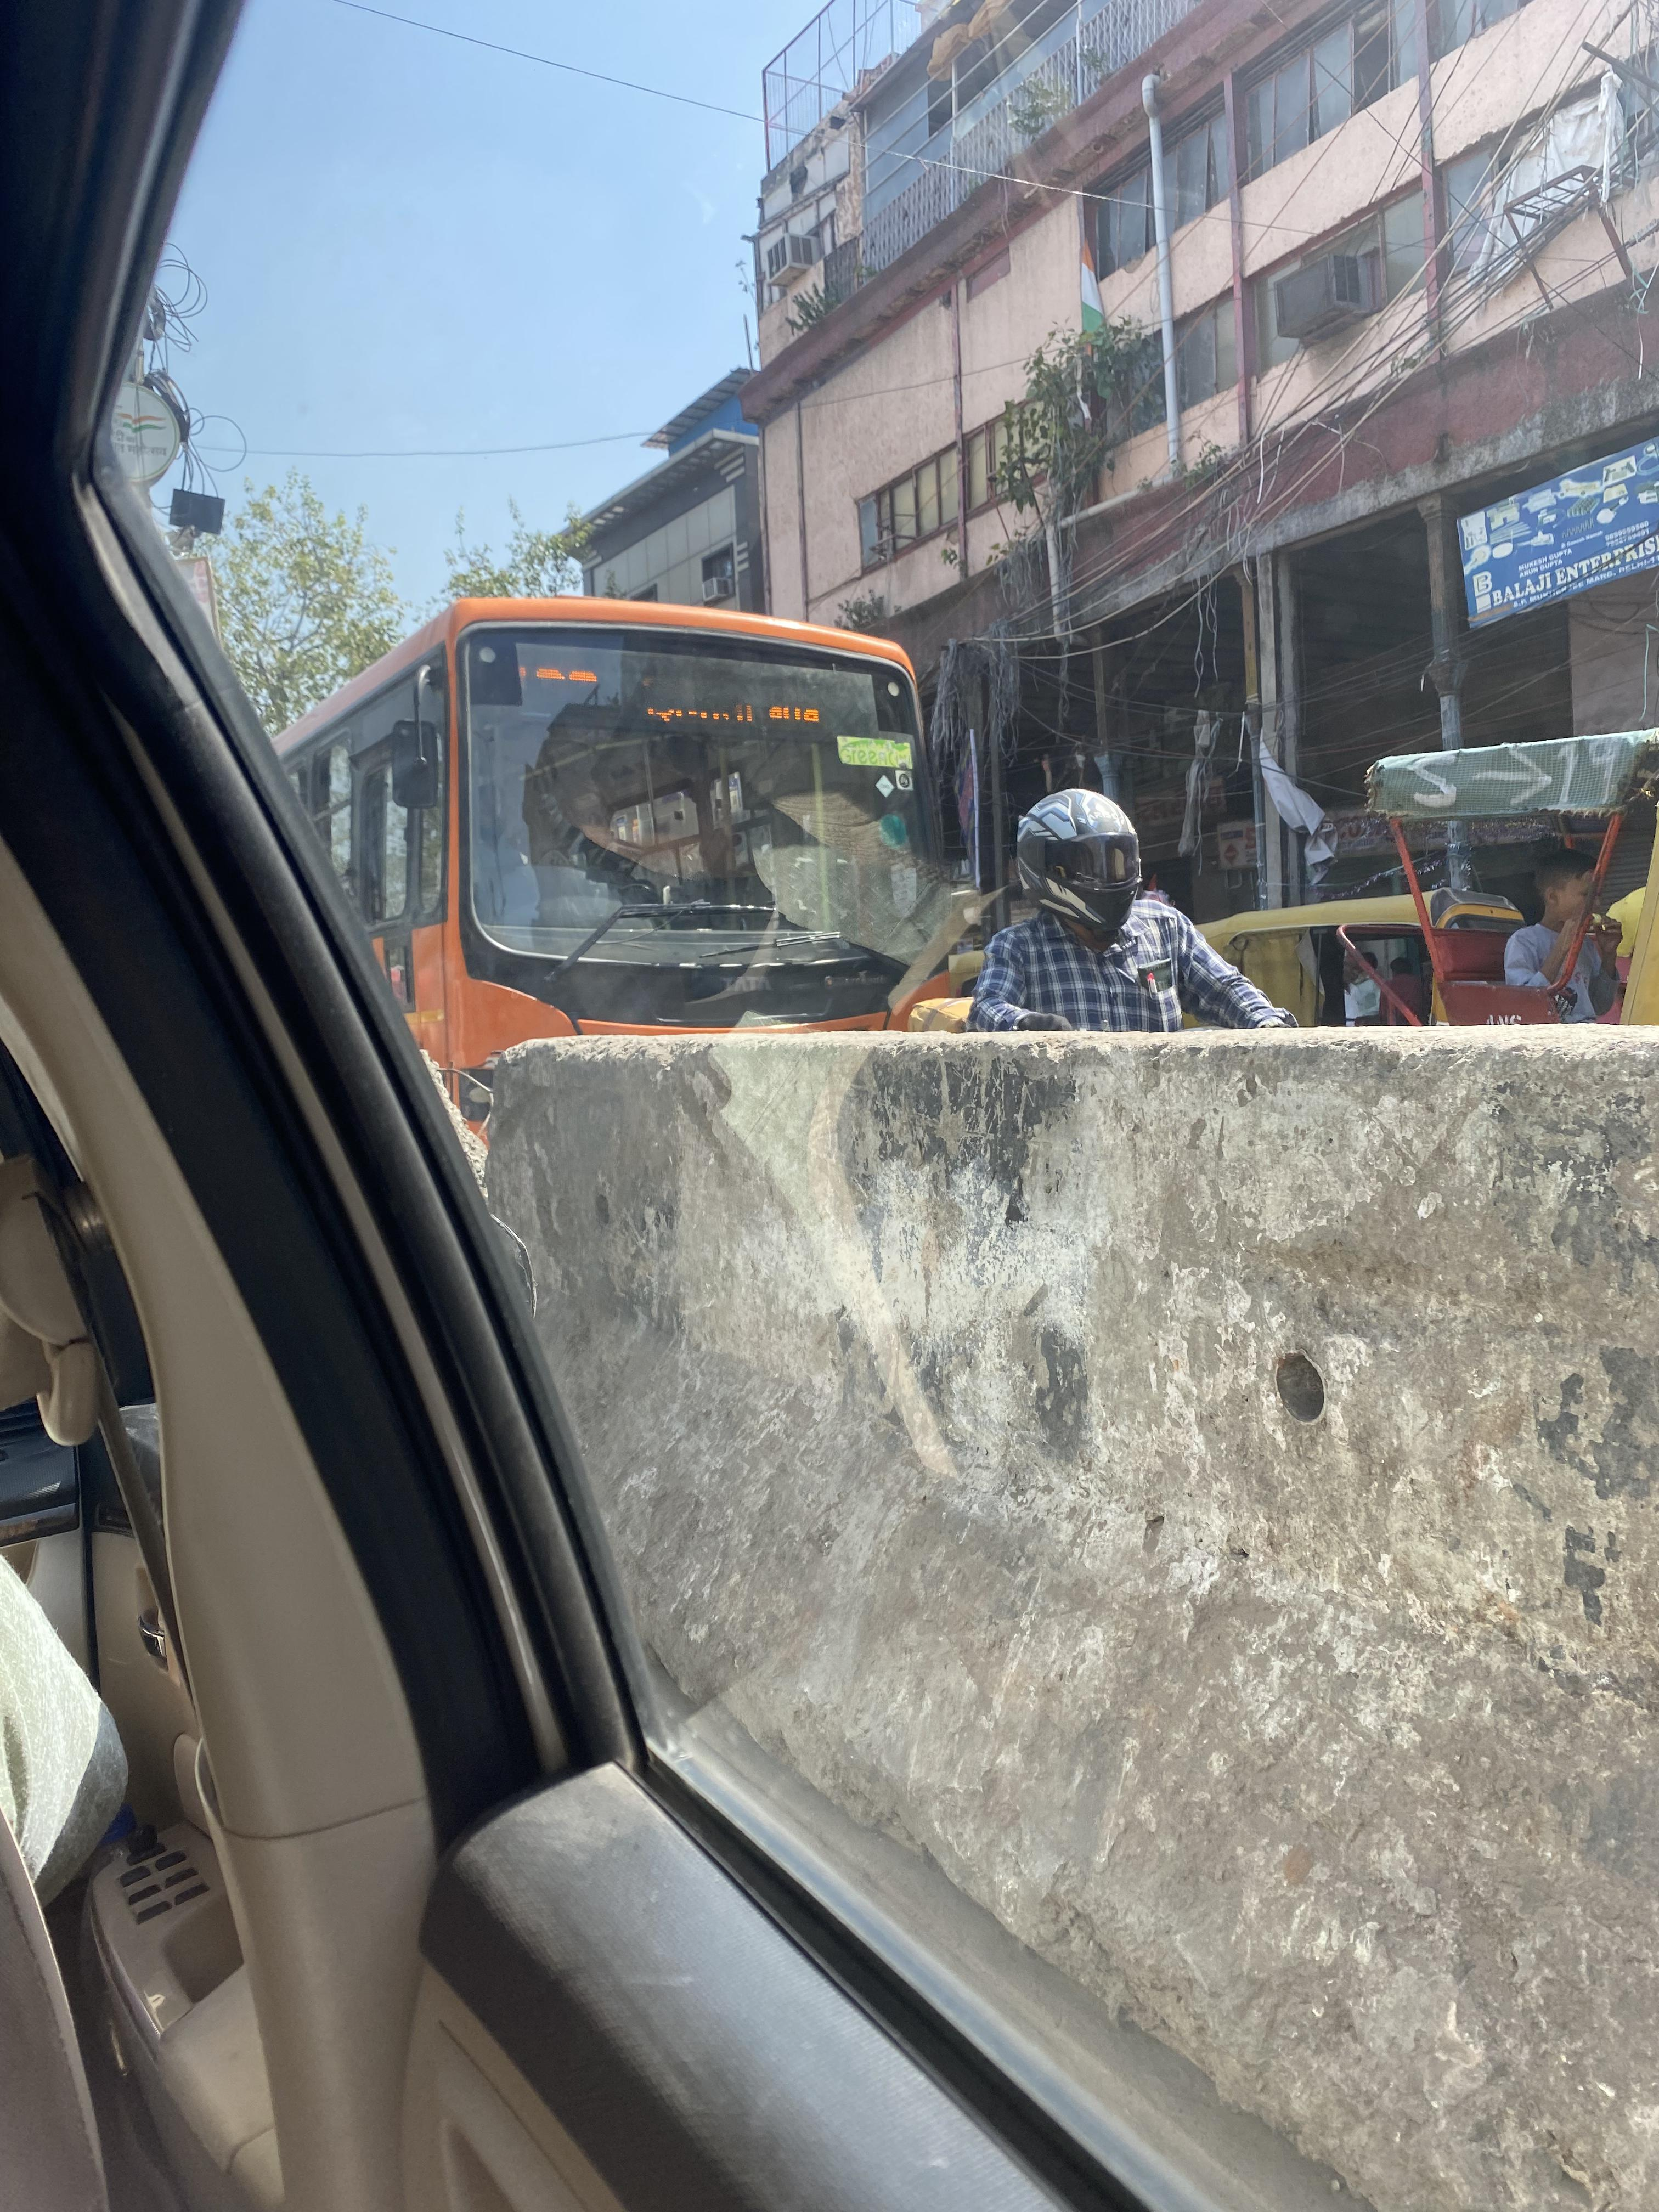Bus: (422, 582, 976, 1069)
Display Board: (455, 603, 960, 763)
